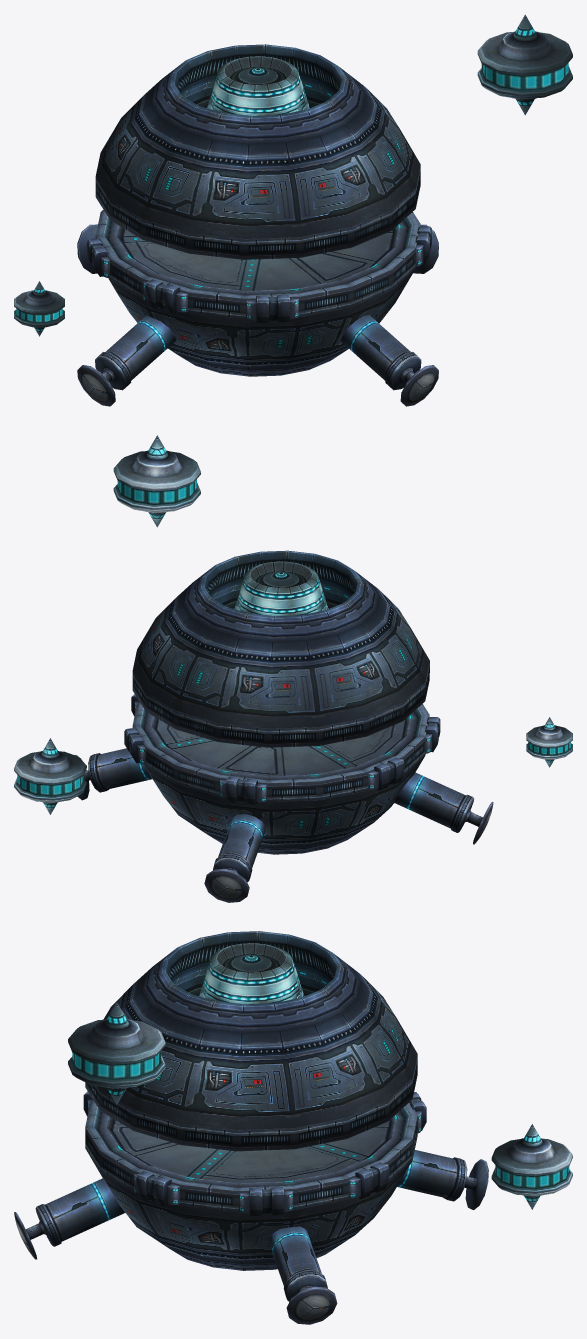
File: ts_dtxz012.FBX
The picture shows the model from 3 angles, top to bottom: view 1: azimuth 30°, elevation 25°; view 2: azimuth 150°, elevation 25°; view 3: azimuth 270°, elevation 25°; orthographic projection. The views are drawn at different scales.
Visible parts, largest first — view 1: ts_dtxz012, ts_dtxz012b; view 2: ts_dtxz012, ts_dtxz012b; view 3: ts_dtxz012, ts_dtxz012b.
Boxes of the visible parts, x1,y1,x2,y2 form: ts_dtxz012: (77,44,438,406); ts_dtxz012b: (14,14,572,336); ts_dtxz012: (74,550,493,902); ts_dtxz012b: (14,435,572,814); ts_dtxz012: (14,931,488,1324); ts_dtxz012b: (68,1002,572,1209).
Bounding box in the file's own units: 9.53 × 5.69 × 8.66.
Materials: 1 (1 with a texture image).
